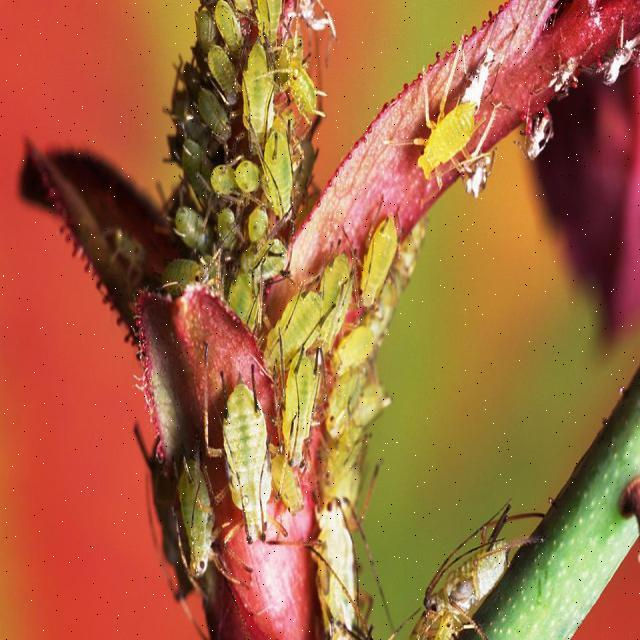Aphids: (203, 356, 280, 545), (346, 177, 424, 353), (404, 65, 503, 190), (411, 512, 524, 609), (168, 444, 231, 605), (300, 495, 367, 640), (384, 572, 481, 640), (255, 281, 333, 360), (276, 358, 335, 453), (259, 119, 306, 228), (173, 186, 219, 270), (346, 365, 406, 426), (222, 137, 265, 214), (202, 154, 233, 209)
